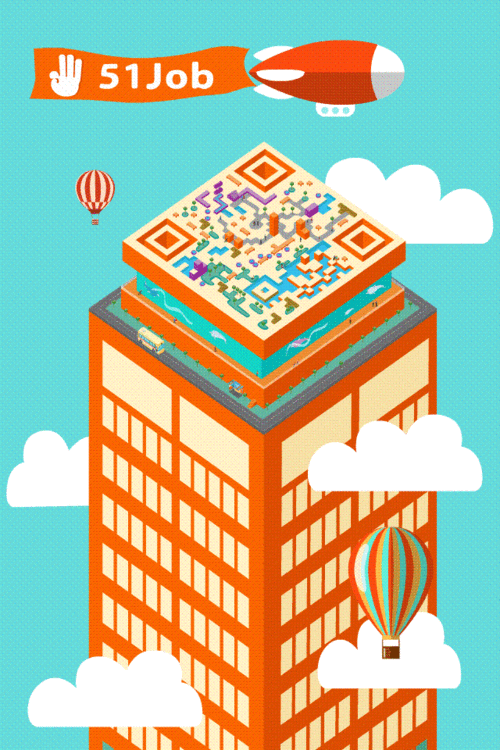QRCode: (147, 149, 396, 327)
